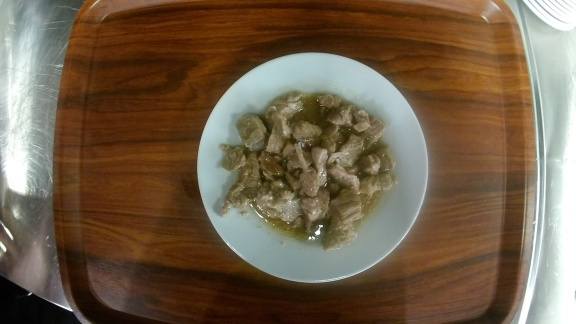etsote: (194, 52, 429, 284)
